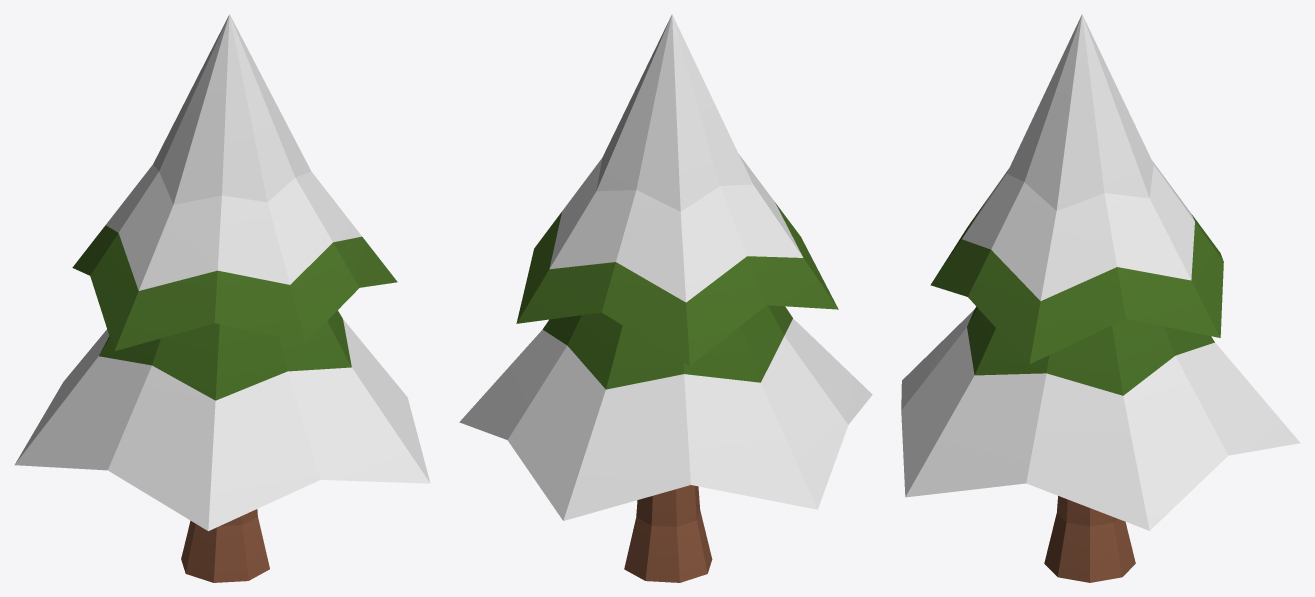
The model's file is fir tree winter small.fbx.
3 renders of one model, left to right at view 1: azimuth 30°, elevation 25°; view 2: azimuth 150°, elevation 25°; view 3: azimuth 270°, elevation 25°, orthographic.
Parts seen in each view (by area): view 1: fir tree winter small; view 2: fir tree winter small; view 3: fir tree winter small.
Part boxes in pixels (bbox=[...]): fir tree winter small: bbox=[14, 14, 430, 582]; fir tree winter small: bbox=[459, 14, 872, 582]; fir tree winter small: bbox=[901, 14, 1300, 582].
Size of the model in its own units: 219 by 320 by 211.
